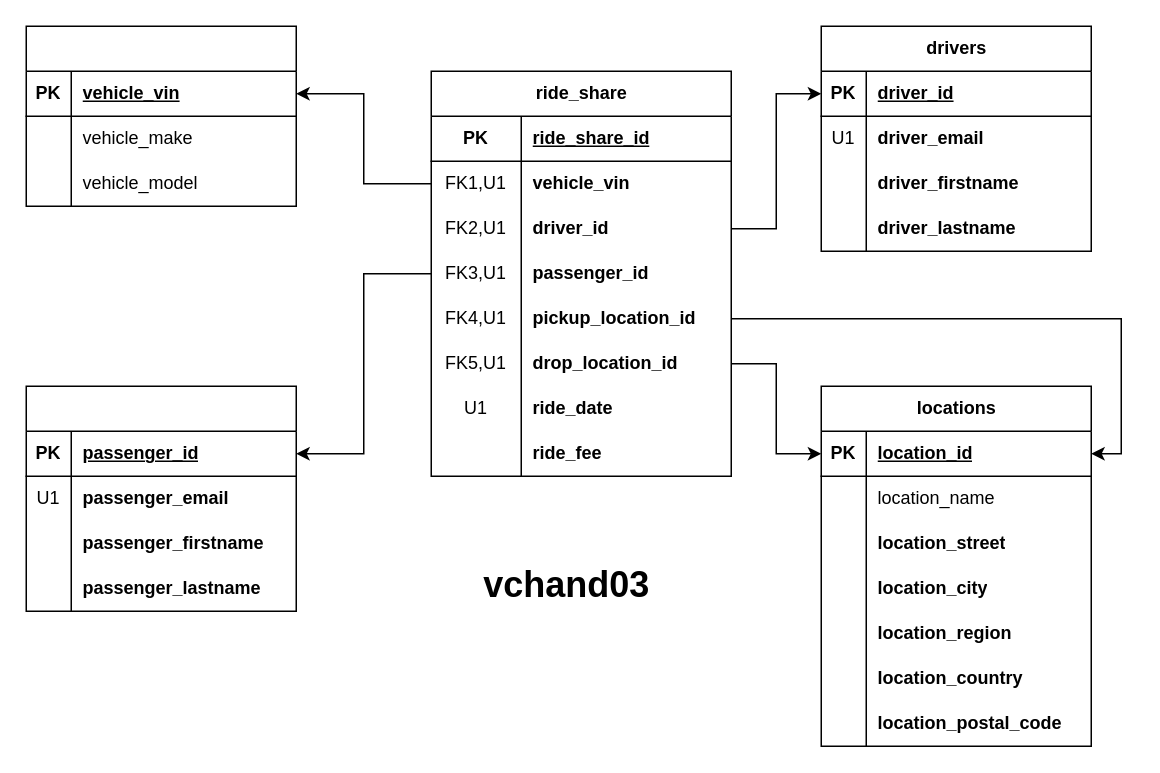
Image size: 1160x773. Some labels were removed from this diagram. The shapes that lost their labels are listed below. From the top down, each one's box as (x1, y1, x2, y2) in pixels, then its label:
(25, 25, 296, 206): vehicles
(25, 385, 296, 611): passengers
